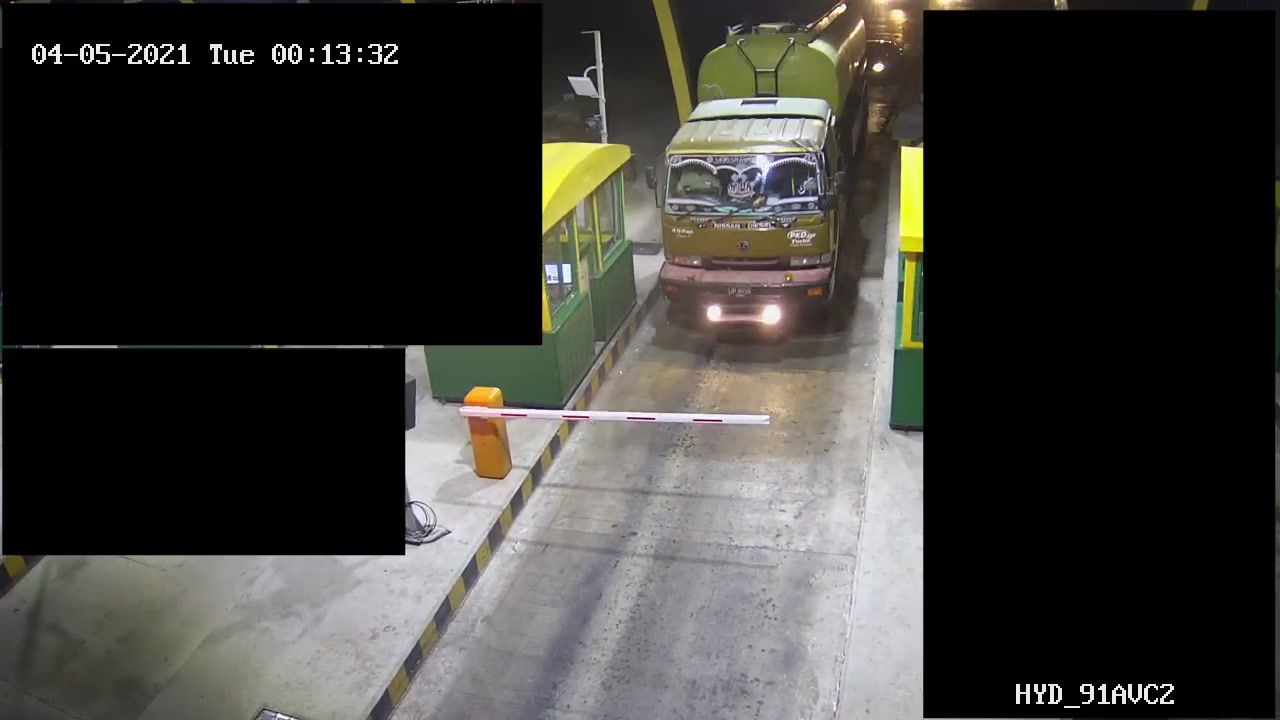F6: (655, 1, 871, 351)
